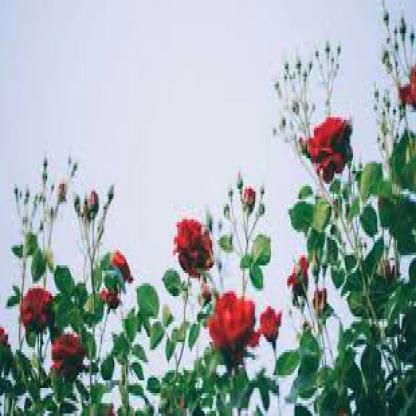Rose-Mawar: (165, 193, 284, 369), (20, 269, 86, 391), (294, 95, 357, 195)
